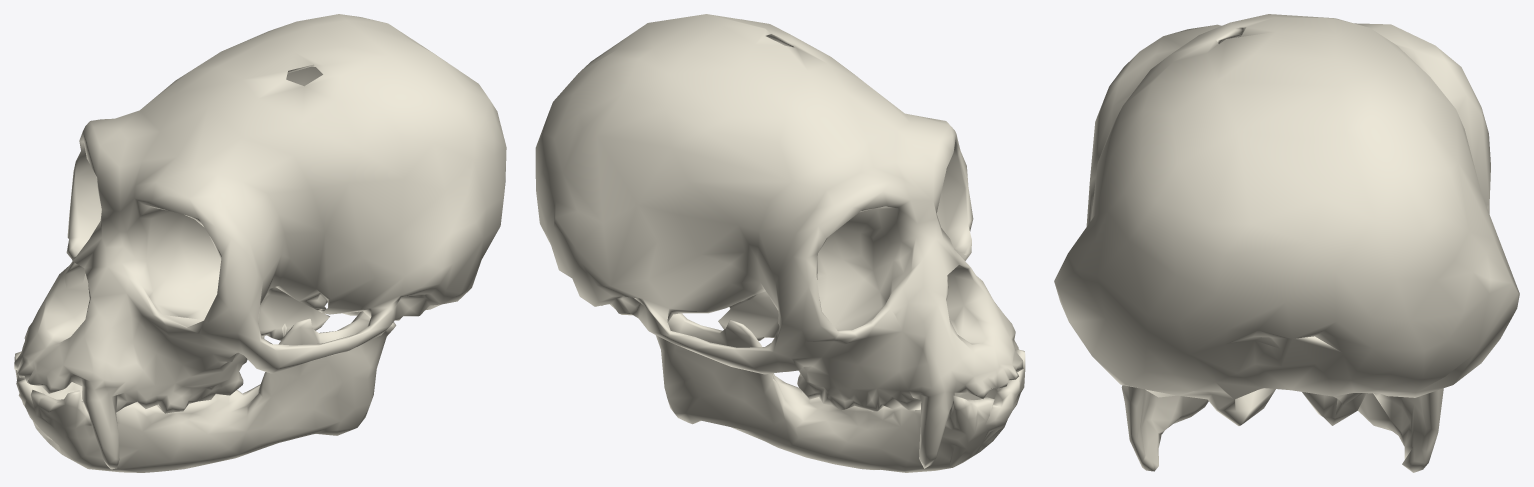
The model's file is gibbonskull.glb.
3 views of the same model, side by side, from view 1: azimuth 30°, elevation 25°; view 2: azimuth 150°, elevation 25°; view 3: azimuth 270°, elevation 25° (orthographic). The views are drawn at different scales.
Size of the model in its own units: 0.0973 by 0.0755 by 0.0684.
